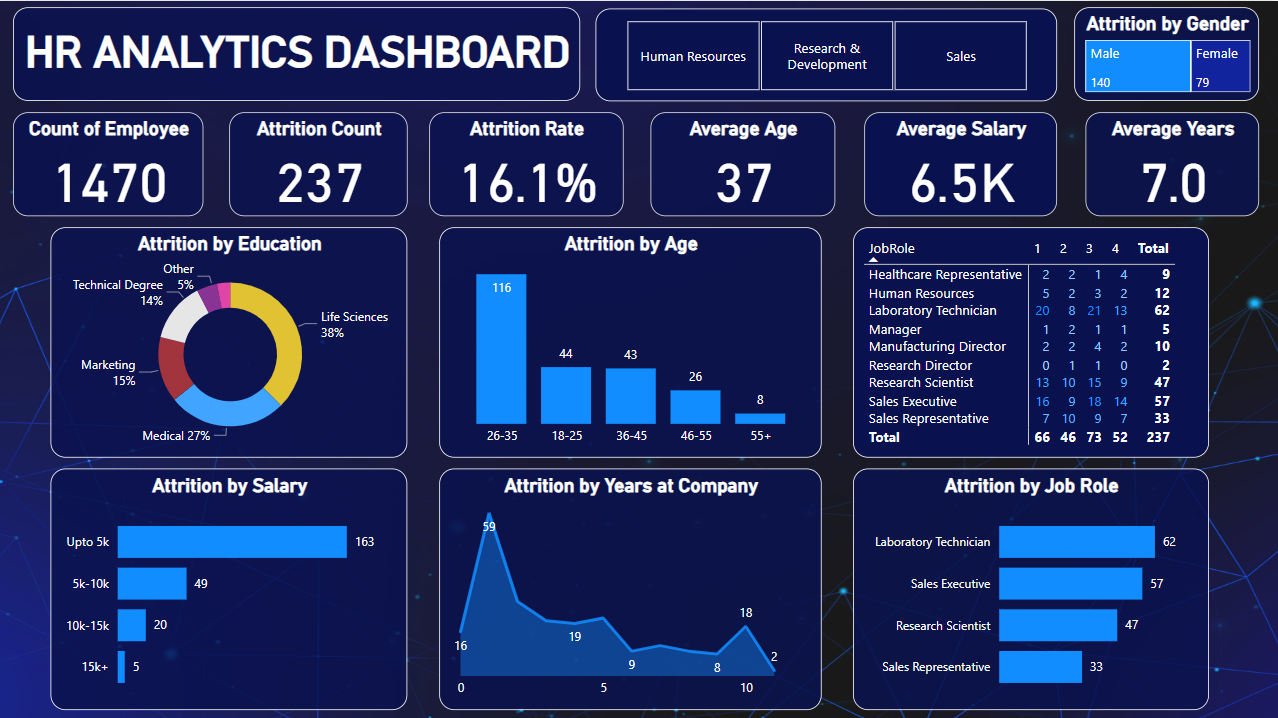

The page's visual inventory and layout, read from the dashboard file:
{"tool":"powerbi","page":{"name":"HR ANALYTICS DASHBOARD","canvas":[1280,720],"ordinal":0},"visuals":[{"type":"card","title":"Count of Employee","fields":{"Values":["CountNonNull(HR_Analytics.EmpID)"]},"box":[14.5,111,190.6,103.8],"z":0},{"type":"card","title":"Attrition Count","fields":{"Values":["Sum(HR_Analytics.AttritionCount)"]},"box":[231.6,111,178.6,103.8],"z":1000},{"type":"card","title":"Attrition Rate","fields":{"Values":["HR_Analytics.Attrition Rate"]},"box":[430.7,111,194.2,103.8],"z":2000},{"type":"card","title":"Average Age","fields":{"Values":["Avg(HR_Analytics.Age)"]},"box":[652.7,111,184.6,103.8],"z":3000},{"type":"card","title":"Average Salary","fields":{"Values":["Avg(HR_Analytics.MonthlyIncome)"]},"box":[866.2,111,193,103.8],"z":4000},{"type":"card","title":"Average Years","fields":{"Values":["Avg(HR_Analytics.YearsAtCompany)"]},"box":[1087,111,173.7,103.8],"z":5000},{"type":"donutChart","title":"Attrition by Education","fields":{"Category":["HR_Analytics.EducationField"],"Y":["Sum(HR_Analytics.AttritionCount)"]},"box":[53.1,226.8,357.1,230.4],"z":6000},{"type":"columnChart","title":"Attrition by Age","fields":{"Category":["HR_Analytics.AgeGroup"],"Y":["Sum(HR_Analytics.AttritionCount)"]},"box":[441.6,226.8,382.4,230.4],"z":7000},{"type":"pivotTable","fields":{"Rows":["HR_Analytics.JobRole"],"Columns":["HR_Analytics.JobSatisfaction"],"Values":["Sum(HR_Analytics.AttritionCount)"]},"box":[855.4,226.8,355.9,230.4],"z":8000},{"type":"barChart","title":"Attrition by Salary","fields":{"Category":["HR_Analytics.SalarySlab"],"Y":["Sum(HR_Analytics.AttritionCount)"]},"box":[53.1,468.1,357.1,241.3],"z":9000},{"type":"barChart","title":"Attrition by Job Role","fields":{"Y":["Sum(HR_Analytics.AttritionCount)"],"Category":["HR_Analytics.JobRole"]},"box":[855.4,468.1,355.9,241.3],"z":10000},{"type":"lineChart","title":"Attrition by Years at Company","fields":{"Category":["HR_Analytics.YearsAtCompany"],"Y":["Sum(HR_Analytics.AttritionCount)"]},"box":[441.6,468.1,382.4,241.3],"z":11000},{"type":"treemap","title":"Attrition by Gender","fields":{"Group":["HR_Analytics.Gender"],"Values":["Sum(HR_Analytics.AttritionCount)"]},"box":[1076.2,6.2,185,93.8],"z":12000},{"type":"slicer","fields":{"Values":["HR_Analytics.Department"]},"box":[597.5,7.5,461.2,92.5],"z":13000},{"type":"textbox","box":[15,6.2,567.5,93.8],"z":14000}]}

Visuals, with their boxes in screenshot pixels (x1, y1, x2, y2), scaled from the page's 1280x720 canvas onto the 1278x718 screenshot:
"Count of Employee" card: (x1=14, y1=111, x2=205, y2=214)
"Attrition Count" card: (x1=231, y1=111, x2=410, y2=214)
"Attrition Rate" card: (x1=430, y1=111, x2=624, y2=214)
"Average Age" card: (x1=652, y1=111, x2=836, y2=214)
"Average Salary" card: (x1=865, y1=111, x2=1058, y2=214)
"Average Years" card: (x1=1085, y1=111, x2=1259, y2=214)
"Attrition by Education" donutChart: (x1=53, y1=226, x2=410, y2=456)
"Attrition by Age" columnChart: (x1=441, y1=226, x2=823, y2=456)
pivotTable - HR_Analytics.JobRole x HR_Analytics.JobSatisfaction: (x1=854, y1=226, x2=1209, y2=456)
"Attrition by Salary" barChart: (x1=53, y1=467, x2=410, y2=707)
"Attrition by Job Role" barChart: (x1=854, y1=467, x2=1209, y2=707)
"Attrition by Years at Company" lineChart: (x1=441, y1=467, x2=823, y2=707)
"Attrition by Gender" treemap: (x1=1075, y1=6, x2=1259, y2=100)
slicer - HR_Analytics.Department: (x1=597, y1=7, x2=1057, y2=100)
textbox: (x1=15, y1=6, x2=582, y2=100)
